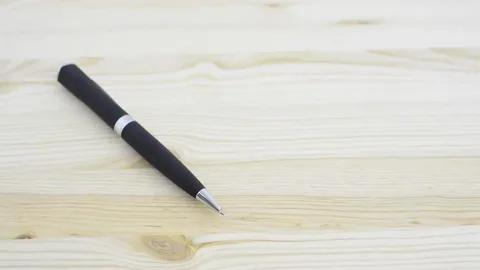pen-pencil: (58, 65, 222, 214)
